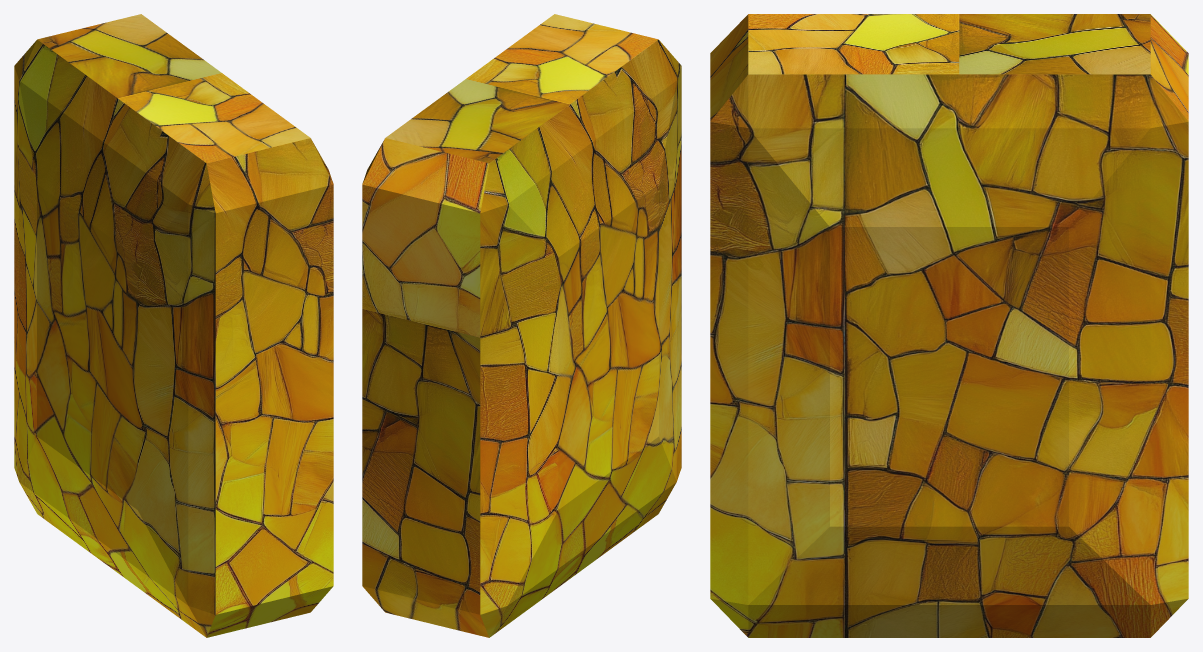
Rendered from gemstone6Yellow.glb.
3 renders of one model, left to right at view 1: azimuth 30°, elevation 25°; view 2: azimuth 150°, elevation 25°; view 3: azimuth 270°, elevation 25°, orthographic. The views are drawn at different scales.
Visible parts, largest first — view 1: gemstone5; view 2: gemstone5; view 3: gemstone5.
Part boxes in pixels (left/top/right/bottom): gemstone5: left=14, top=14, right=333, bottom=637; gemstone5: left=362, top=14, right=681, bottom=637; gemstone5: left=710, top=14, right=1188, bottom=637.
Size of the model in its own units: 0.5 by 1.3 by 1.
Materials: 1 (1 with a texture image).
